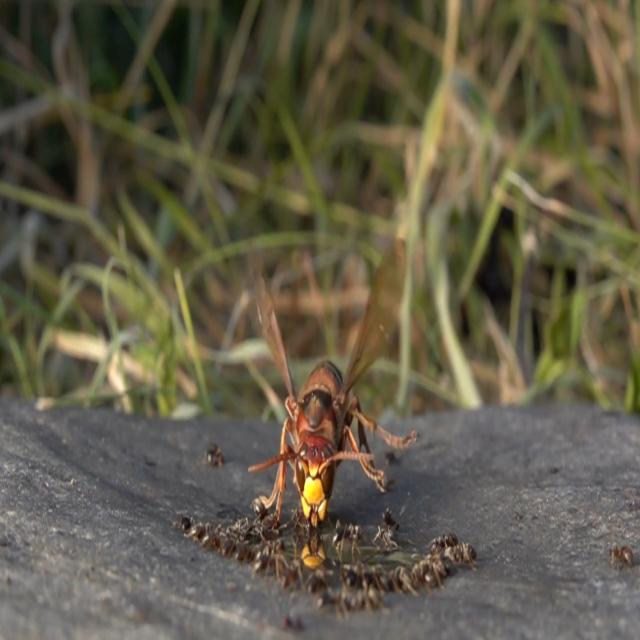Hornets: (235, 239, 423, 536)
